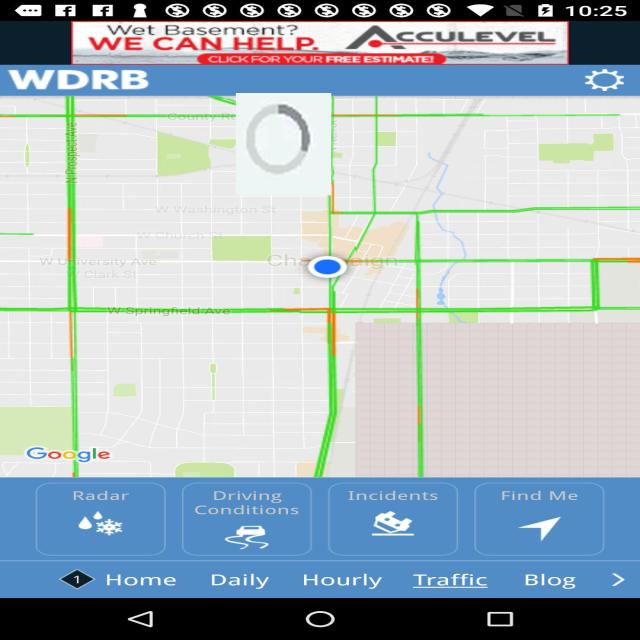misdirection: (236, 93, 331, 195)
